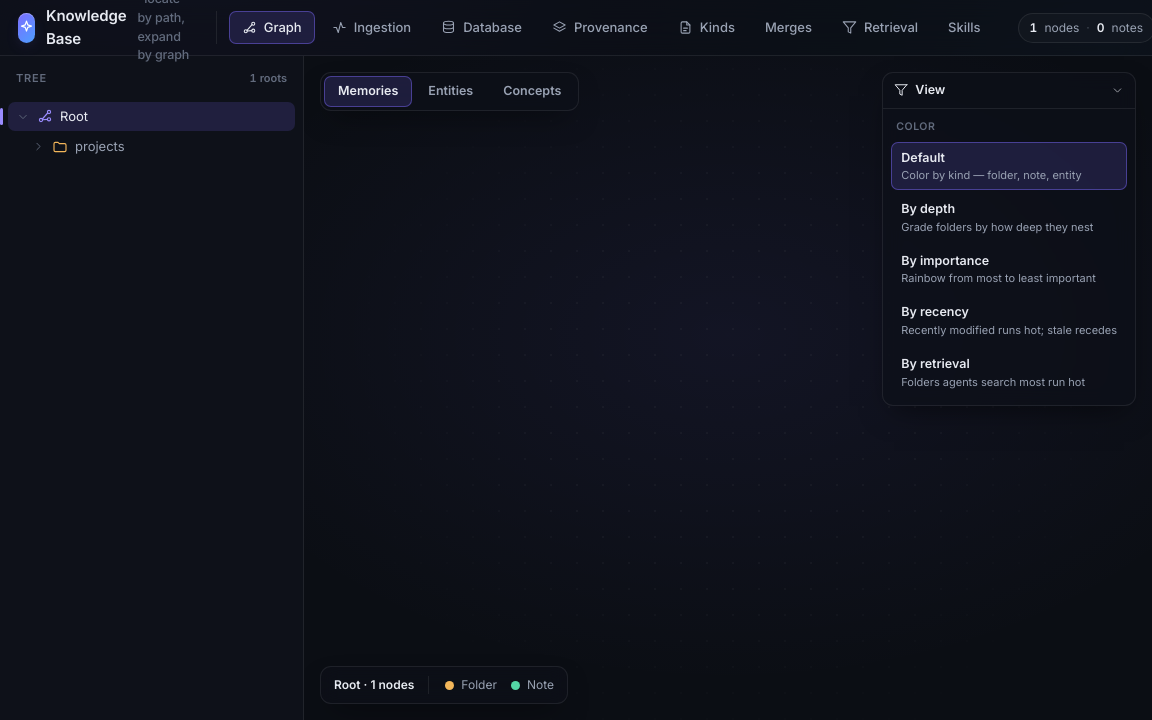
Test: App › ignores a stale concepts failure after a newer request succeeds
The width and height of the screenshot is (1152, 720).
Click the button "Concepts" at (532, 91), box [489,76,575,107]
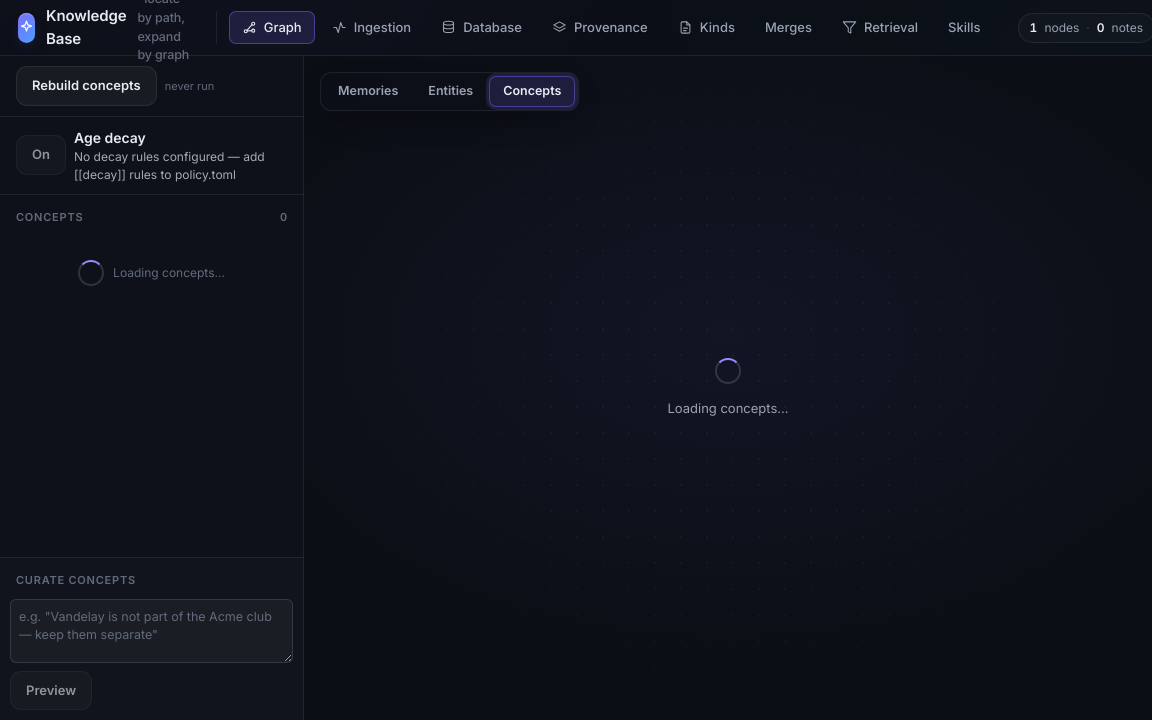
Click the button "Memories" at (368, 91), box [324,76,412,107]
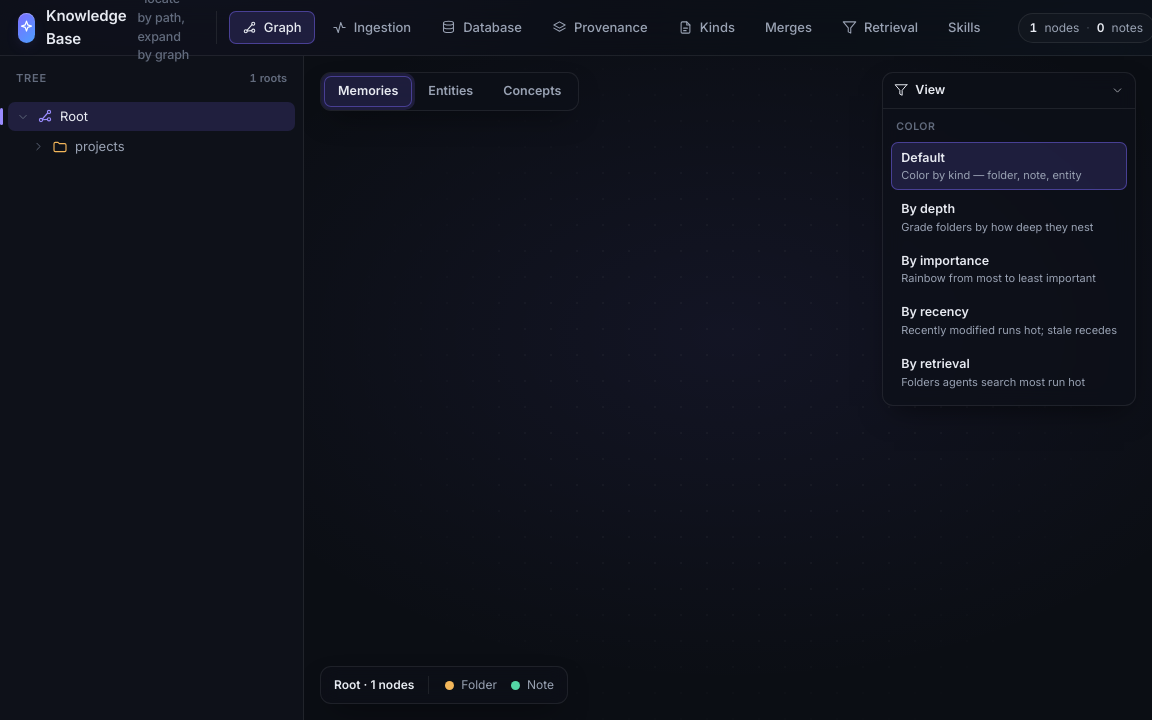
Click the button "Concepts" at (532, 91), box [489,76,575,107]
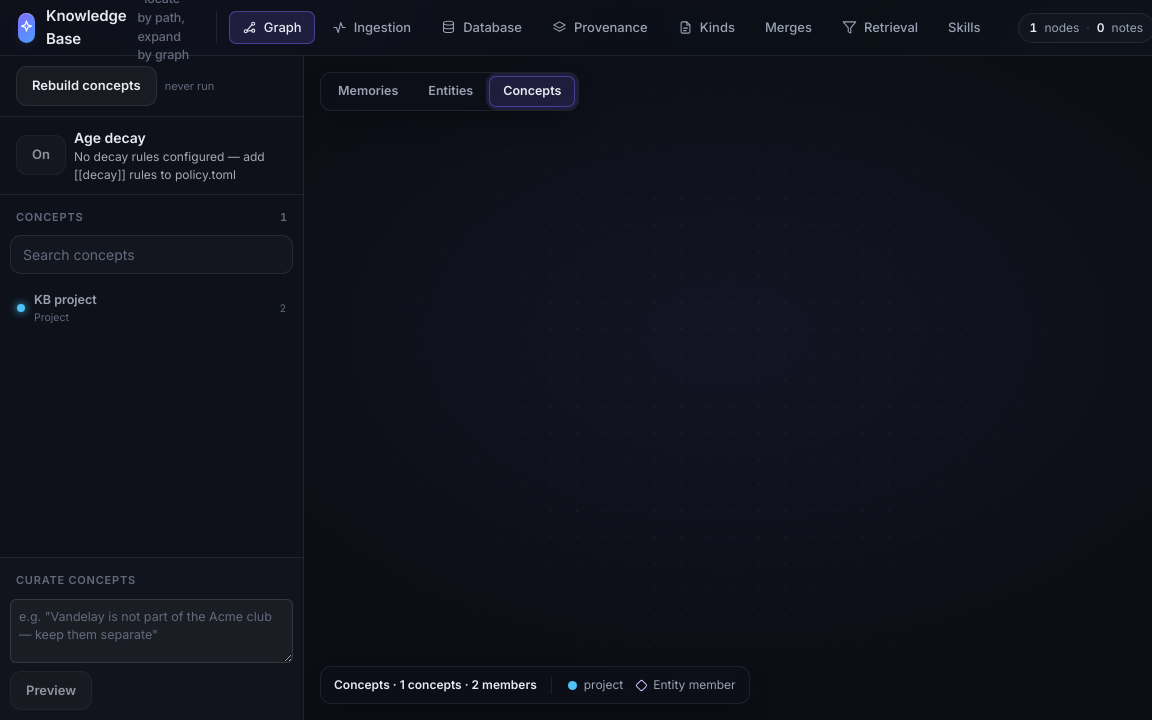
Check: the text "KB project" is shown, box [34,292,97,307]
